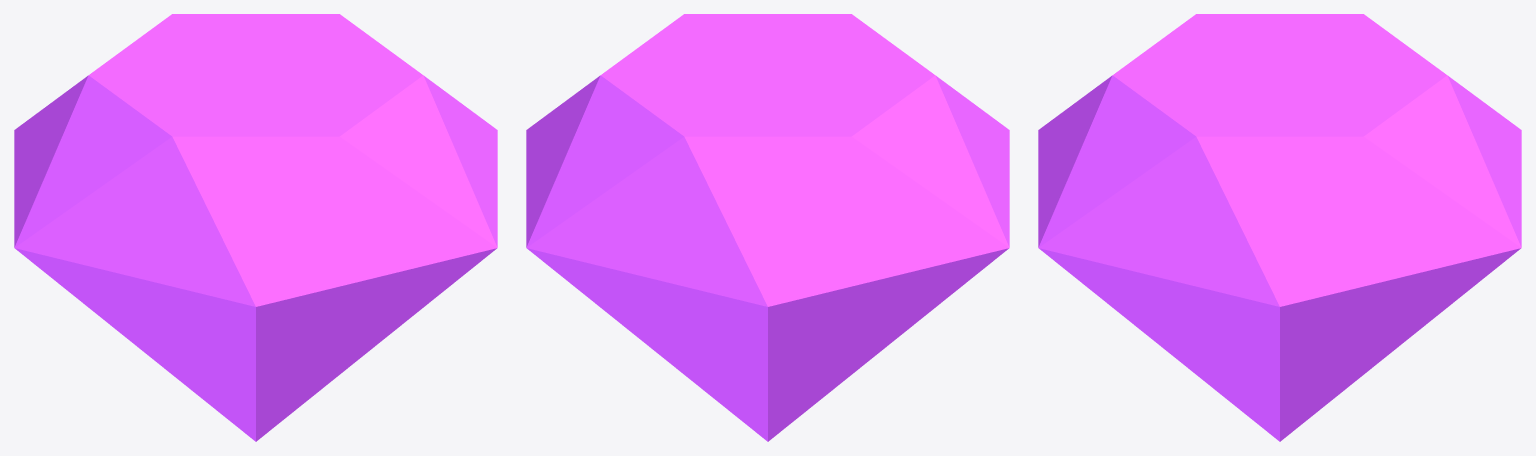
The model's file is gem_amethyst_flawed.glb.
3 renders of one model, left to right at view 1: azimuth 30°, elevation 25°; view 2: azimuth 150°, elevation 25°; view 3: azimuth 270°, elevation 25°, orthographic.
Parts seen in each view (by area): view 1: gem_amethyst_2; view 2: gem_amethyst_2; view 3: gem_amethyst_2.
Part boxes in pixels (x1,y1,x2,y2): gem_amethyst_2: [14, 14, 497, 441]; gem_amethyst_2: [526, 14, 1009, 441]; gem_amethyst_2: [1038, 14, 1521, 441].
Bounding box in the file's own units: 0.075 × 0.0544 × 0.065.
